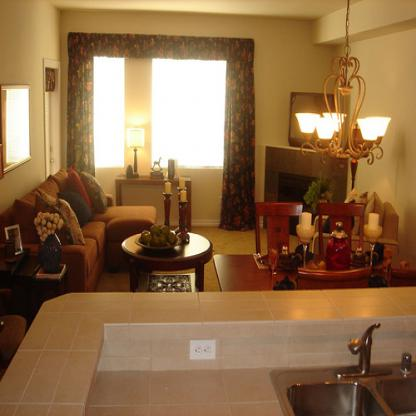chair: (253, 200, 302, 260), (317, 200, 364, 255)
diningtable: (213, 252, 415, 292)
pottedplant: (302, 176, 334, 230)
sofa: (1, 167, 156, 293)
